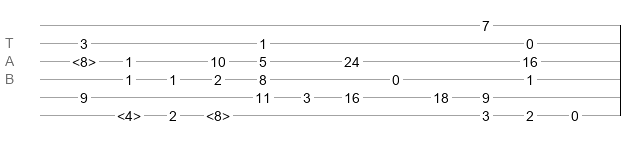0: (392, 72, 400, 82), (526, 36, 534, 46), (571, 108, 579, 118)
1: (125, 72, 133, 82), (125, 54, 133, 64), (169, 72, 177, 82), (259, 36, 267, 46), (526, 72, 534, 82)
10: (210, 54, 226, 64)
11: (255, 90, 271, 100)
16: (344, 90, 360, 100), (522, 54, 538, 64)
18: (433, 90, 449, 100)
2: (169, 108, 177, 118), (214, 72, 222, 82), (526, 108, 534, 118)
24: (344, 54, 360, 64)
3: (80, 36, 88, 46), (303, 90, 311, 100), (482, 108, 490, 118)
5: (259, 54, 267, 64)
7: (482, 18, 490, 28)
8: (259, 72, 267, 82)
9: (80, 90, 88, 100), (482, 90, 490, 100)
harmonic: (72, 54, 96, 64), (117, 108, 141, 118), (206, 108, 230, 118)
